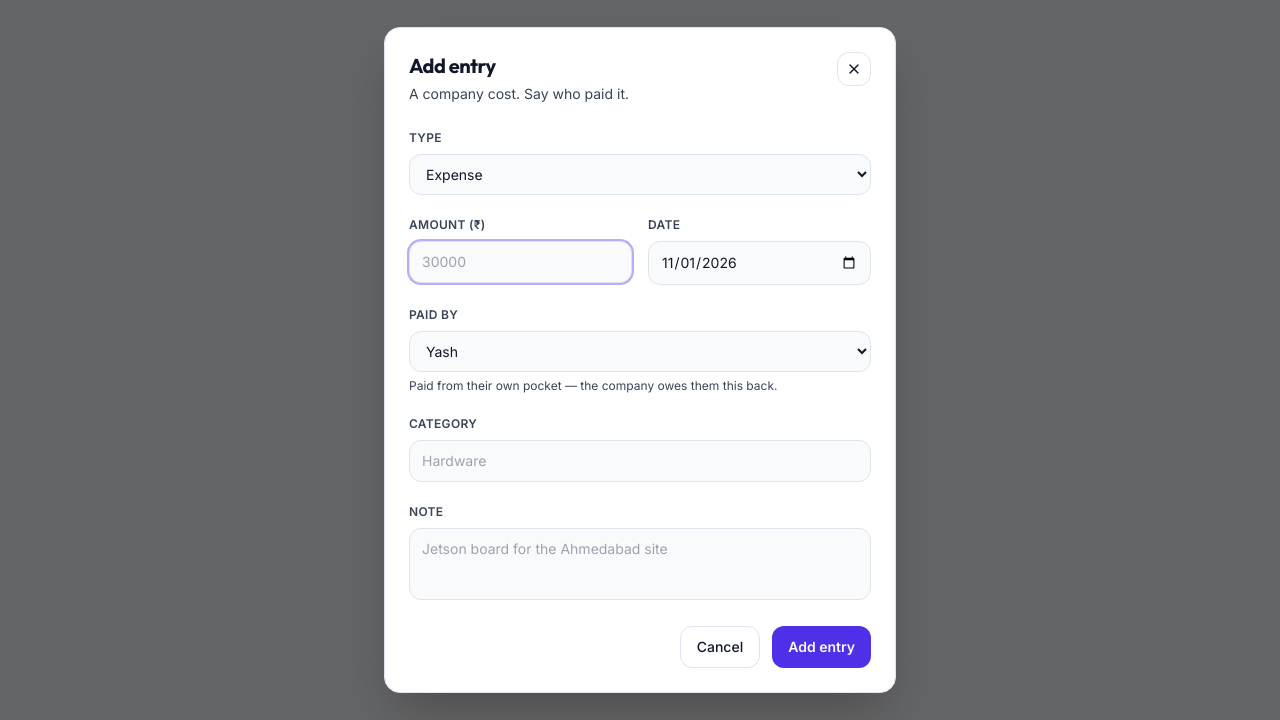
Test: FundEntryDialog › refuses to save zero
Type "0" into the field labelled "Amount (₹)". click: x=520, y=262
box: [409,241,632,283]
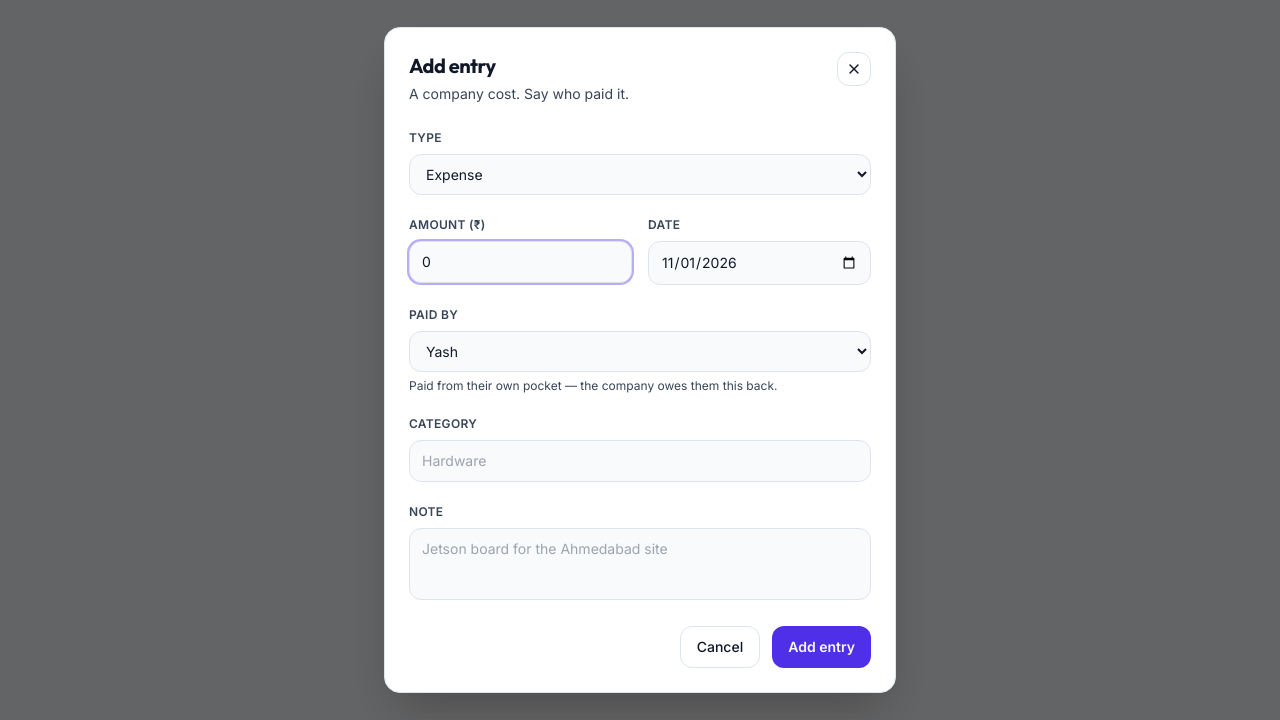
Click the button "Add entry". click: x=822, y=647
box: [772,626,871,668]
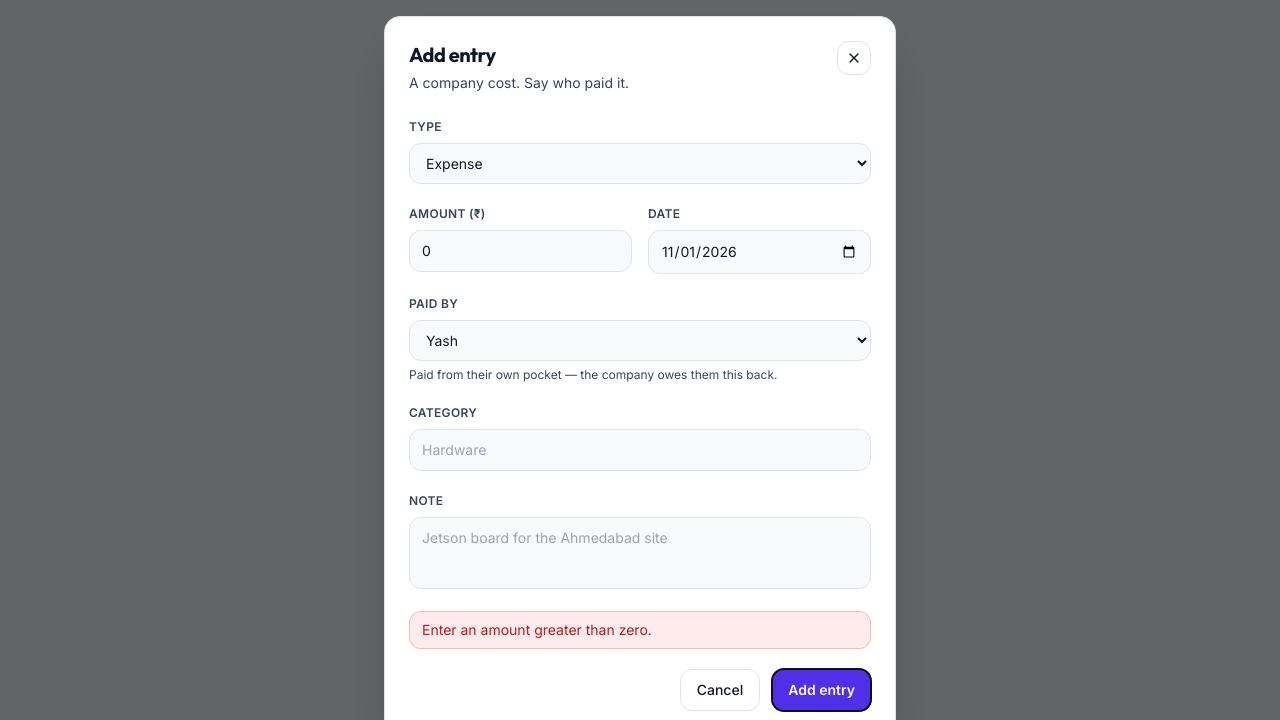
Expected: the text "Enter an amount greater than zero." is shown, [409,611,871,649]
